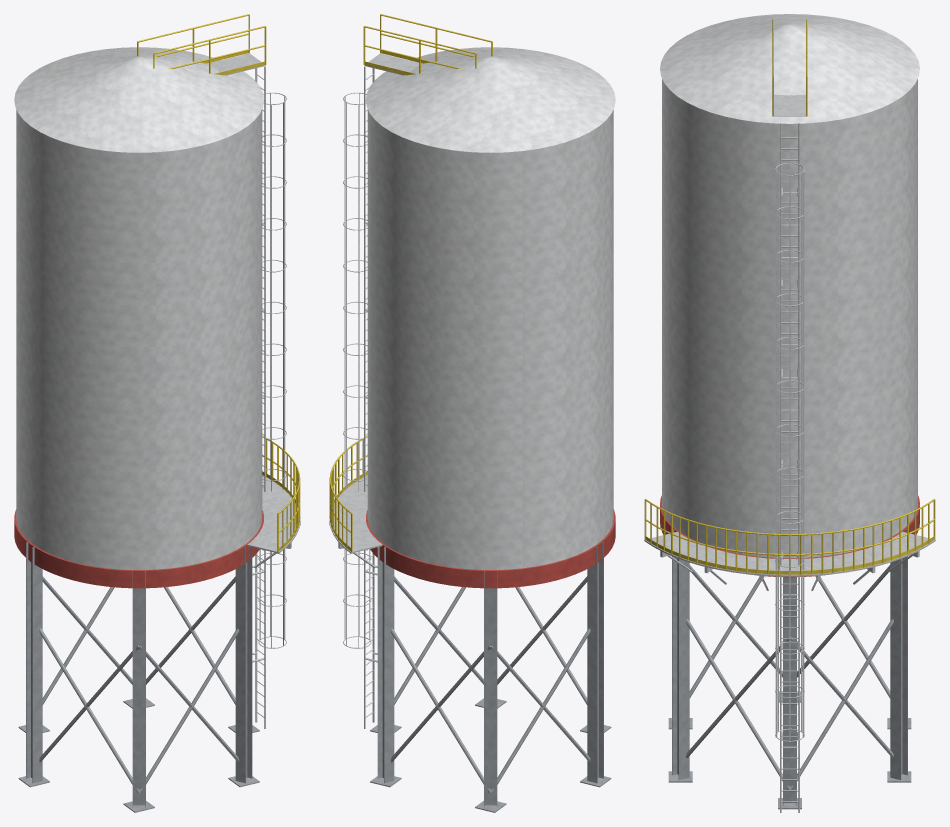
Rendered from biomass-silo-support-and-access.glb.
The picture shows the model from 3 angles, left to right: view 1: azimuth 30°, elevation 25°; view 2: azimuth 150°, elevation 25°; view 3: azimuth 270°, elevation 25°; orthographic projection. The views are drawn at different scales.
Visible parts, largest first — view 1: Silo(context), SupportLegs&BasePlates, CagedLadder, LegBracing, RingBeam, Handrails, RingPlatform, RoofWalkway; view 2: Silo(context), SupportLegs&BasePlates, CagedLadder, LegBracing, RingBeam, Handrails, RingPlatform, RoofWalkway; view 3: Silo(context), SupportLegs&BasePlates, CagedLadder, Handrails, LegBracing, RingPlatform, RingBeam, RoofWalkway.
Part boxes in pixels (bbox=[...]): Silo(context): bbox=[14, 47, 263, 570]; SupportLegs&BasePlates: bbox=[18, 542, 259, 812]; CagedLadder: bbox=[252, 66, 286, 728]; LegBracing: bbox=[39, 576, 239, 793]; RingBeam: bbox=[14, 509, 263, 588]; Handrails: bbox=[137, 14, 300, 552]; RingPlatform: bbox=[247, 475, 300, 568]; RoofWalkway: bbox=[207, 53, 265, 75]; Silo(context): bbox=[366, 47, 615, 570]; SupportLegs&BasePlates: bbox=[370, 542, 611, 812]; CagedLadder: bbox=[343, 66, 377, 728]; LegBracing: bbox=[390, 576, 590, 793]; RingBeam: bbox=[366, 509, 615, 588]; Handrails: bbox=[329, 14, 492, 552]; RingPlatform: bbox=[329, 475, 382, 568]; RoofWalkway: bbox=[364, 53, 422, 75]; Silo(context): bbox=[660, 14, 919, 558]; SupportLegs&BasePlates: bbox=[668, 529, 911, 809]; CagedLadder: bbox=[775, 123, 804, 812]; Handrails: bbox=[644, 19, 935, 574]; LegBracing: bbox=[686, 565, 893, 790]; RingPlatform: bbox=[644, 531, 935, 590]; RingBeam: bbox=[660, 495, 919, 577]; RoofWalkway: bbox=[774, 94, 805, 116].
Bounding box in the file's own units: 7.83 × 20.27 × 7.27.
6 materials, 6 textured.
